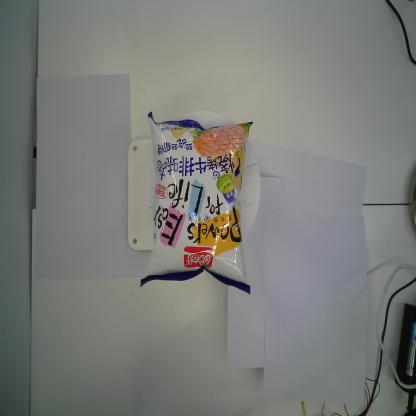Puffed Food: (136, 109, 256, 295)
